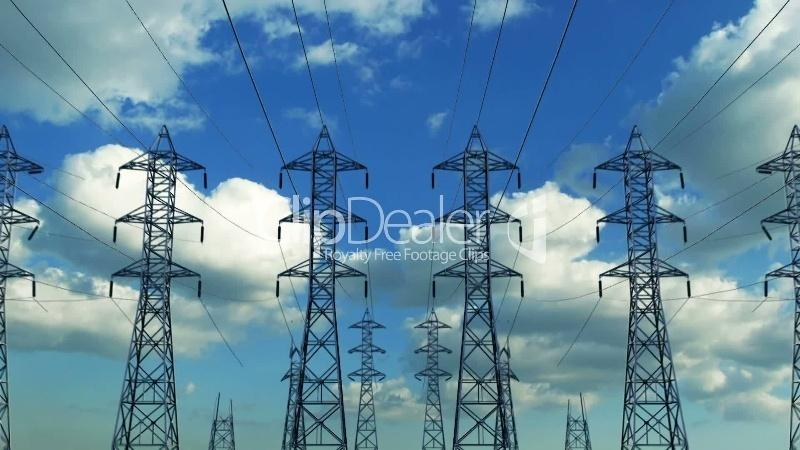power_tower: (597, 125, 690, 445), (270, 129, 355, 445), (112, 124, 187, 443), (443, 137, 518, 444), (759, 118, 794, 444), (4, 125, 36, 446), (350, 305, 387, 444), (412, 309, 445, 447)
